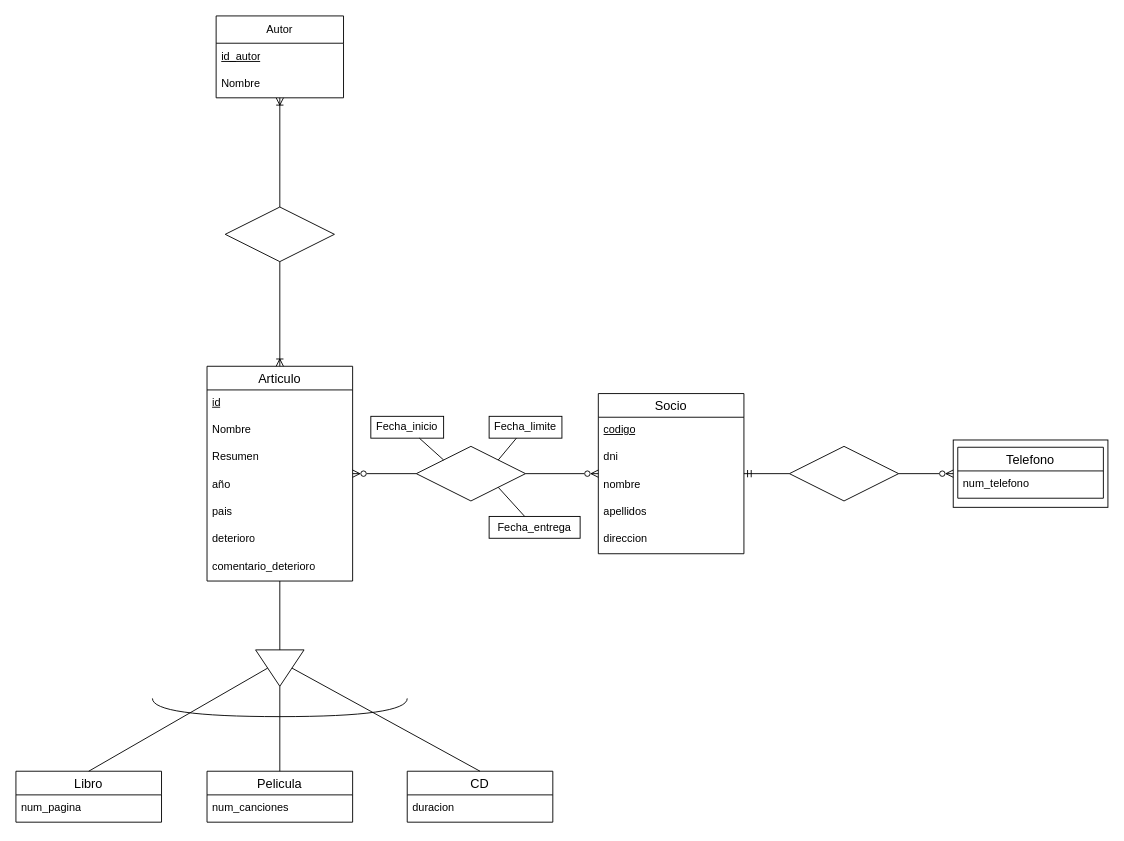
Image size: 1124x841. Some labels were removed from this diagram. The shapes that lost their labels are listed below. From the top down, each one's centre as x and y in pixels, then its label:
At pixel 279 234: "Relationship".
At pixel 470 473: "Prestar".
At pixel 844 473: "Tiene".
